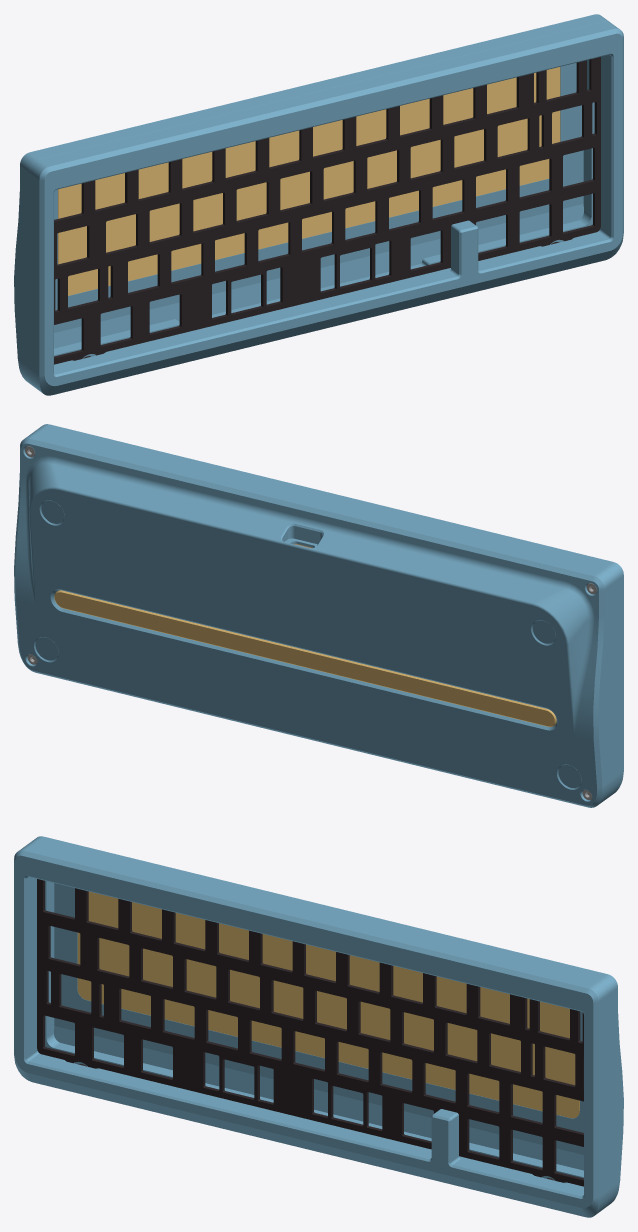
The model's file is mb44v2_case_render asset.fbx.
The picture shows the model from 3 angles, top to bottom: view 1: azimuth 30°, elevation 25°; view 2: azimuth 150°, elevation 25°; view 3: azimuth 330°, elevation 25°; orthographic projection.
Visible parts, largest first — view 1: Plate, Case Top, Cable Cover, Case Btm; view 2: Case Btm, Cable Cover, Case Top; view 3: Plate, Case Top, Cable Cover, Case Btm.
Part boxes in pixels (bbox=[...]): Plate: bbox=[54, 57, 600, 364]; Case Top: bbox=[29, 21, 623, 395]; Cable Cover: bbox=[58, 67, 560, 295]; Case Btm: bbox=[14, 14, 609, 387]; Case Btm: bbox=[14, 431, 614, 807]; Cable Cover: bbox=[54, 543, 556, 726]; Case Top: bbox=[34, 424, 623, 796]; Plate: bbox=[37, 879, 583, 1186]; Case Top: bbox=[14, 843, 608, 1217]; Cable Cover: bbox=[77, 891, 579, 1118]; Case Btm: bbox=[28, 836, 623, 1209].
Size of the model in its own units: 256 by 97.25 by 28.46.
